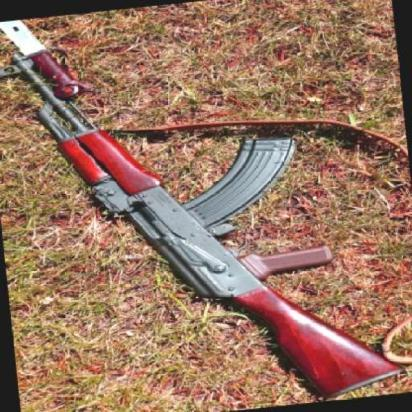Gun: (0, 0, 408, 412)
